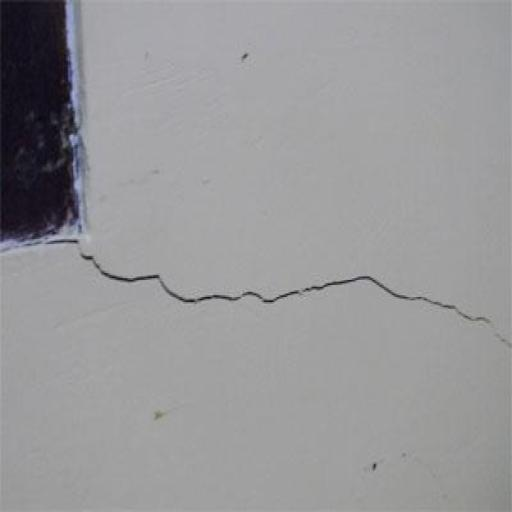spalling: (73, 243, 509, 347)
